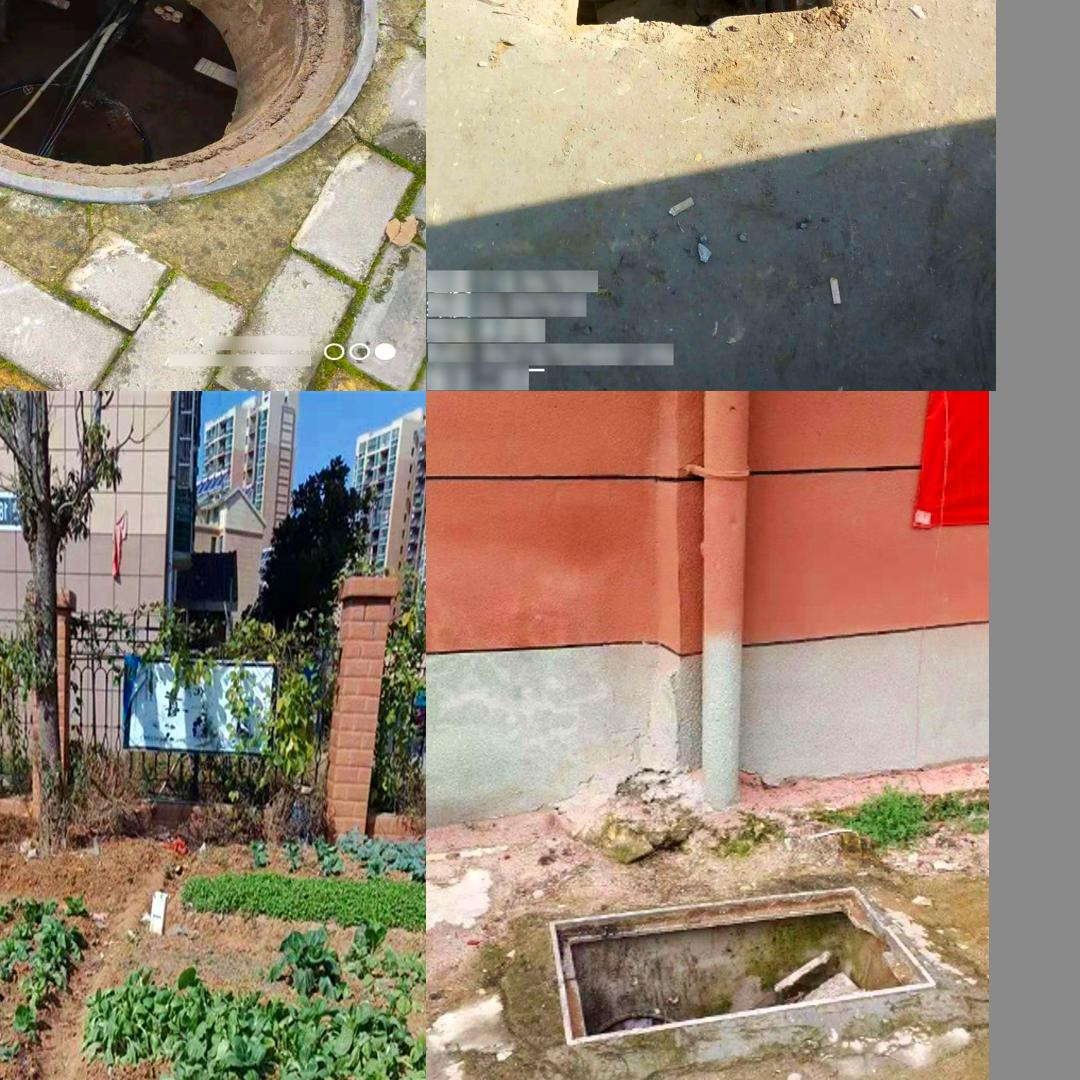lose: (0, 0, 383, 208), (546, 886, 934, 1045), (561, 0, 850, 56)
